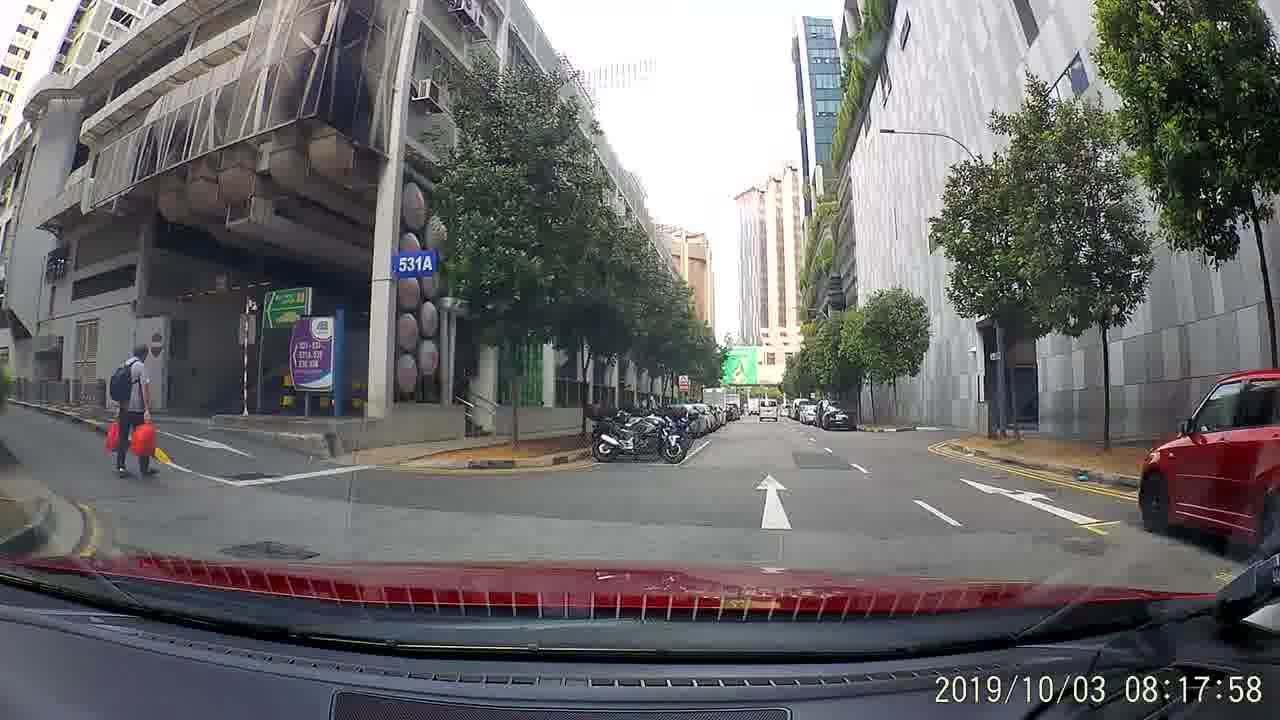car: (1142, 369, 1279, 552), (821, 401, 858, 432)
